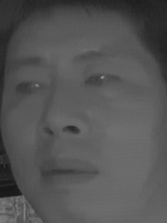eye: (85, 69, 122, 94), (11, 77, 48, 100)
mouth: (36, 152, 101, 192)
